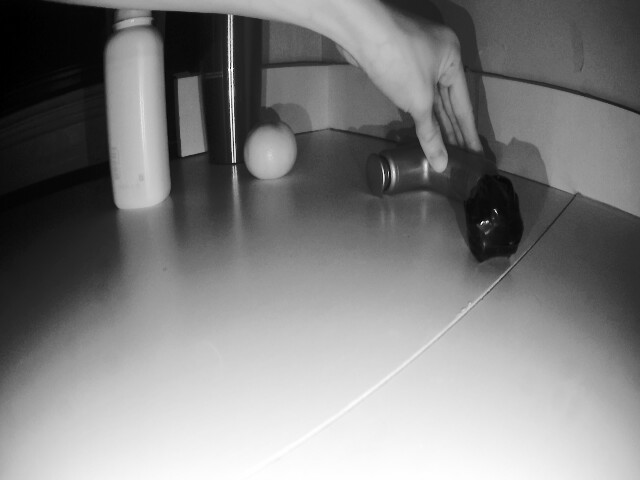silver: (459, 172, 525, 253)
